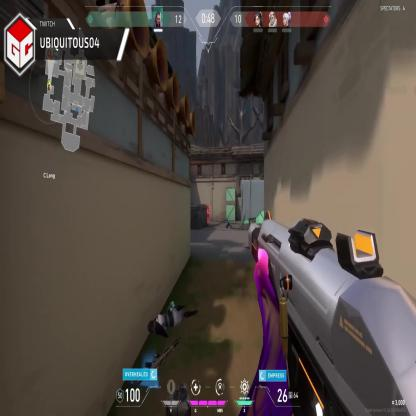enemy: (206, 204, 210, 225)
enemy_head: (206, 204, 209, 208)
